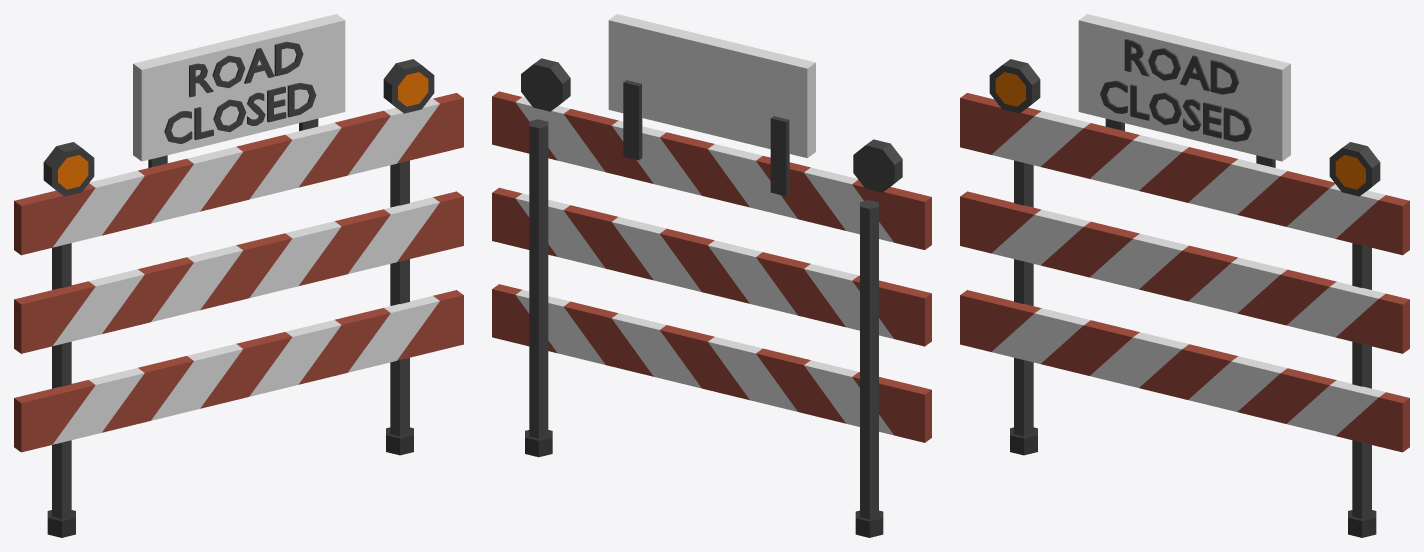
The model's file is RoadPart_01.fbx.
3 renders of one model, left to right at view 1: azimuth 30°, elevation 25°; view 2: azimuth 150°, elevation 25°; view 3: azimuth 330°, elevation 25°, orthographic. The views are drawn at different scales.
Visible parts, largest first — view 1: RoadPart_01; view 2: RoadPart_01; view 3: RoadPart_01.
Boxes of the visible parts, x1=… form: RoadPart_01: x1=14, y1=14, x2=463, y2=537; RoadPart_01: x1=492, y1=14, x2=931, y2=537; RoadPart_01: x1=960, y1=14, x2=1409, y2=537.
Bounding box in the file's own units: 87.89 × 86.11 × 7.12.
